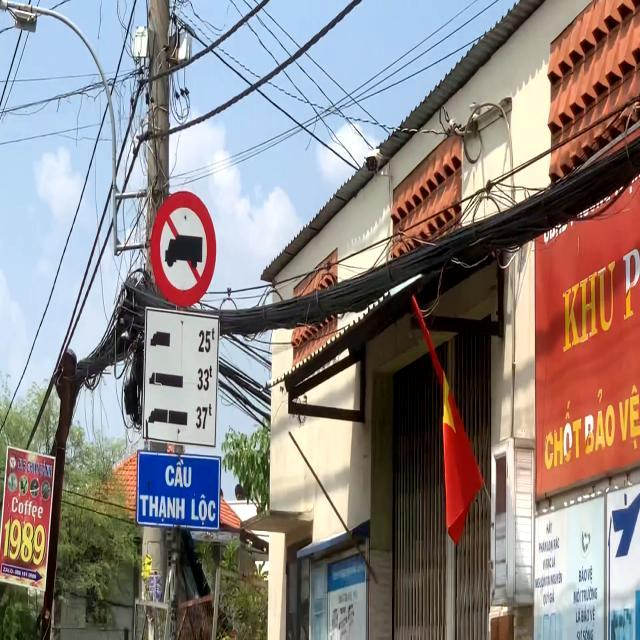Cam xe tai: (150, 179, 219, 304)
